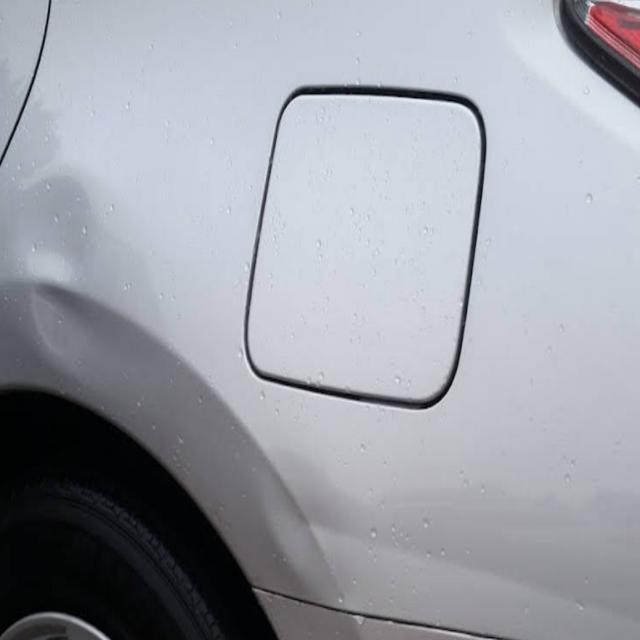dents: (20, 157, 194, 382), (265, 441, 351, 599)
